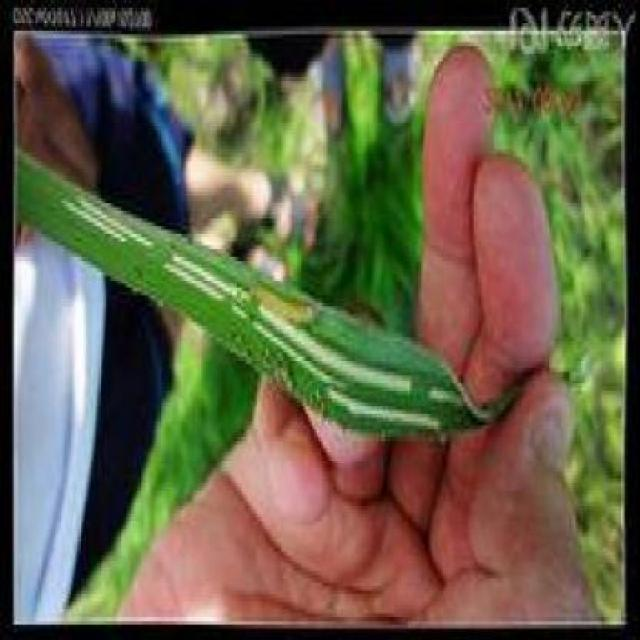leaf-folder: (237, 246, 326, 354)
